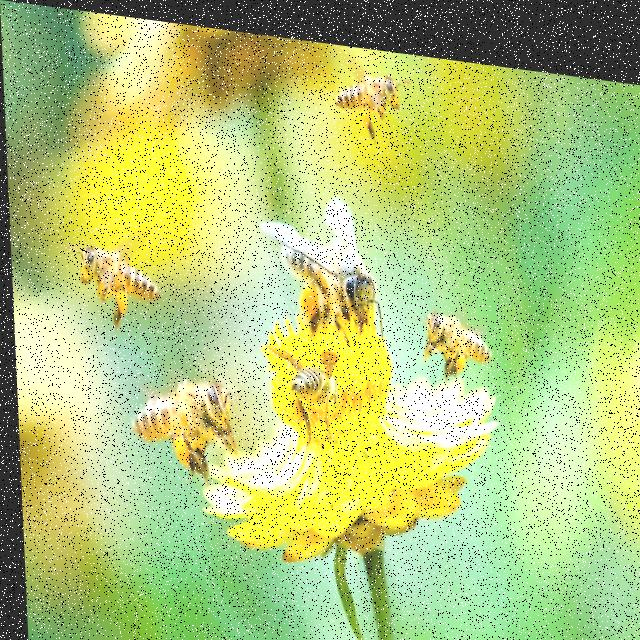Apis-mellifera-scutellata: (244, 176, 392, 343), (118, 358, 248, 481), (54, 215, 165, 341), (268, 325, 350, 441), (411, 274, 495, 380), (334, 48, 413, 134)
